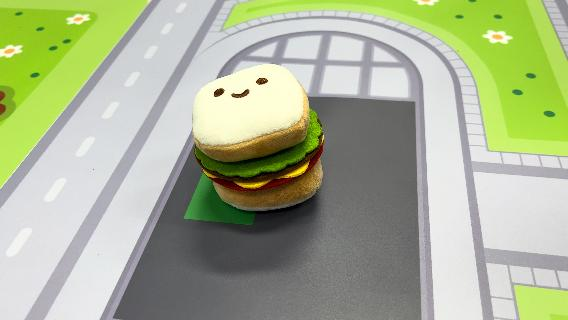sandwich: (190, 61, 328, 212)
